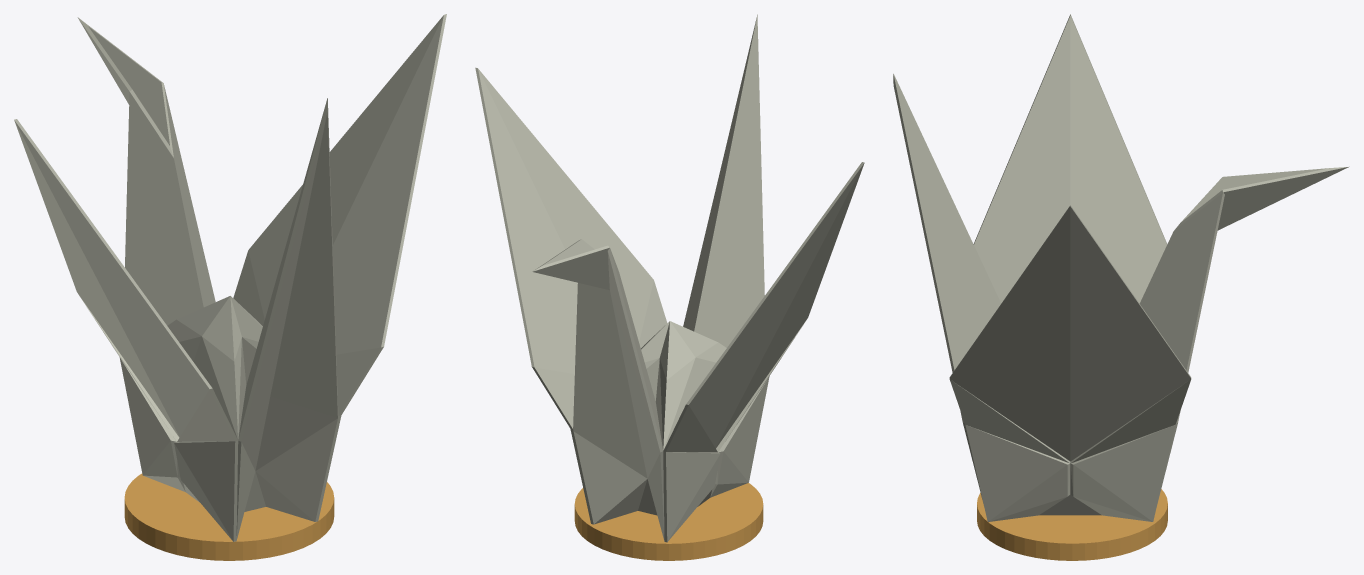
The picture shows the model from 3 angles, left to right: view 1: azimuth 30°, elevation 25°; view 2: azimuth 150°, elevation 25°; view 3: azimuth 270°, elevation 25°; orthographic projection. The views are drawn at different scales.
Parts seen in each view (by area): view 1: Mesh_Mesh_head_geo.001_lambert2SG.001; view 2: Mesh_Mesh_head_geo.001_lambert2SG.001; view 3: Mesh_Mesh_head_geo.001_lambert2SG.001.
Boxes of the visible parts, left/top/right/bottom form: Mesh_Mesh_head_geo.001_lambert2SG.001: left=14, top=14, right=446, bottom=560; Mesh_Mesh_head_geo.001_lambert2SG.001: left=475, top=14, right=864, bottom=560; Mesh_Mesh_head_geo.001_lambert2SG.001: left=893, top=14, right=1349, bottom=560.
Bounding box in the file's own units: 0.0715 × 0.0776 × 0.0717.
